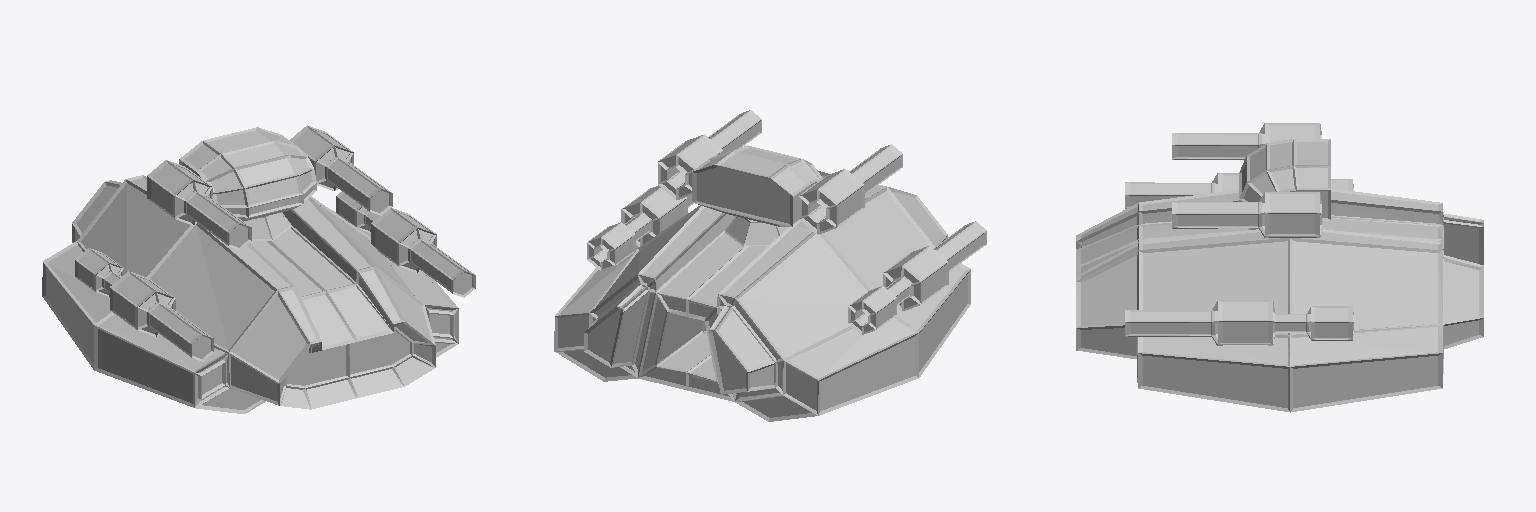
The model's file is boss_02.obj.
3 views of the same model, side by side, from view 1: azimuth 30°, elevation 25°; view 2: azimuth 150°, elevation 25°; view 3: azimuth 270°, elevation 25° (orthographic).
Parts seen in each view (by area): view 1: Cube.001_Cube.005, Cube_Cube.004, Cube.008, Cylinder.006, Cylinder.008_Cylinder.012, Cylinder.004, Cube.007, Cylinder.001, Cylinder.005, Cylinder.009_Cylinder.013, Cylinder.007, Cylinder.003 (+4 smaller); view 2: Cube.001_Cube.005, Cube_Cube.004, Cube.008, Cylinder.004, Cylinder.006, Cylinder.001, Cube.007, Cylinder.005, Cylinder.007, Cylinder.003, Cylinder.008_Cylinder.012, Cylinder.010 (+5 smaller); view 3: Cube.001_Cube.005, Cube_Cube.004, Cylinder.001, Cylinder.008_Cylinder.012, Cube.008, Cylinder.004, Cylinder.009_Cylinder.013, Cylinder.003, Cube.007, Cylinder.012_Cylinder.014, Cylinder.006, Cylinder.005 (+2 smaller).
Boxes of the visible parts, x1,y1,x2,y2 form: Cube.001_Cube.005: [46, 178, 454, 409]; Cube_Cube.004: [42, 175, 458, 413]; Cube.008: [183, 130, 312, 218]; Cylinder.006: [113, 275, 210, 358]; Cylinder.008_Cylinder.012: [375, 211, 471, 294]; Cylinder.004: [151, 164, 247, 246]; Cube.007: [179, 127, 316, 221]; Cylinder.001: [293, 129, 388, 212]; Cylinder.005: [147, 160, 251, 249]; Cylinder.009_Cylinder.013: [371, 208, 475, 297]; Cylinder.007: [110, 271, 213, 361]; Cylinder.003: [290, 125, 392, 215]; Cube.001_Cube.005: [558, 176, 967, 417]; Cube_Cube.004: [554, 170, 970, 421]; Cube.008: [697, 148, 820, 224]; Cylinder.004: [802, 148, 899, 231]; Cylinder.006: [886, 225, 983, 308]; Cylinder.001: [661, 114, 757, 196]; Cube.007: [692, 145, 821, 226]; Cylinder.005: [799, 144, 902, 234]; Cylinder.007: [883, 221, 986, 310]; Cylinder.003: [658, 110, 761, 200]; Cylinder.008_Cylinder.012: [625, 187, 691, 243]; Cylinder.010: [851, 279, 909, 332]; Cube.001_Cube.005: [1079, 191, 1478, 407]; Cube_Cube.004: [1076, 188, 1483, 412]; Cylinder.001: [1178, 194, 1314, 236]; Cylinder.008_Cylinder.012: [1131, 302, 1267, 344]; Cube.008: [1242, 142, 1327, 217]; Cylinder.004: [1178, 125, 1314, 156]; Cylinder.009_Cylinder.013: [1125, 300, 1274, 345]; Cylinder.003: [1172, 192, 1321, 237]; Cube.007: [1239, 139, 1330, 221]; Cylinder.012_Cylinder.014: [1275, 308, 1347, 337]; Cylinder.006: [1131, 175, 1238, 205]; Cylinder.005: [1172, 123, 1321, 159].
Size of the model in its own units: 6.47 by 4.1 by 7.3.